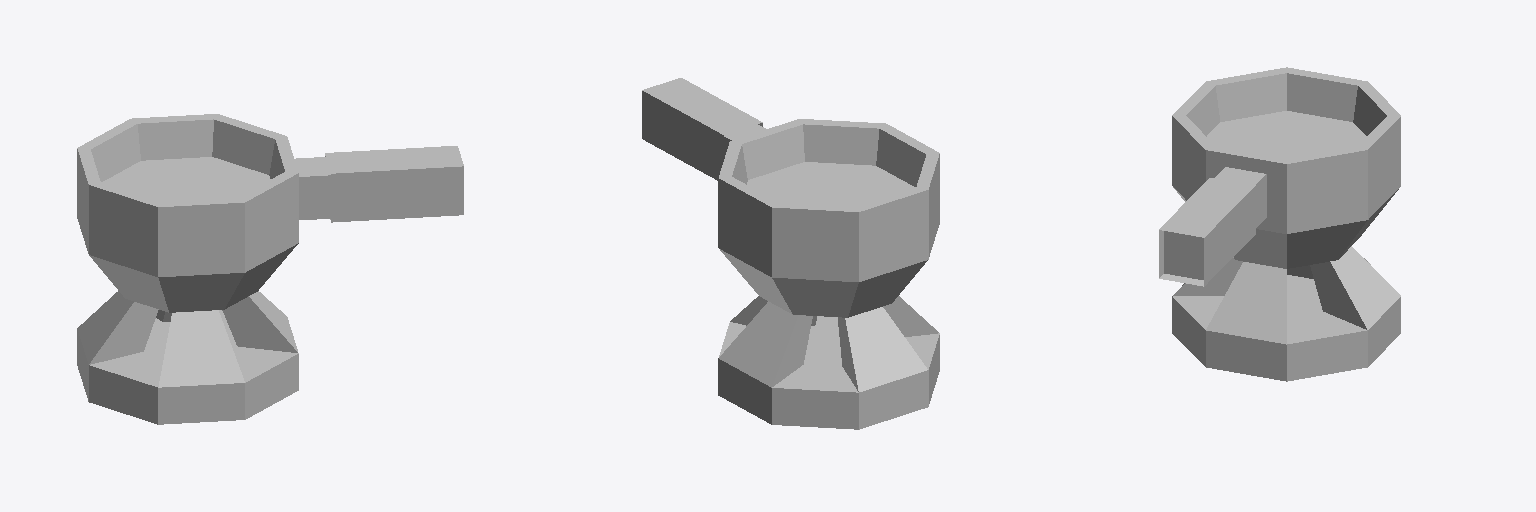
The model's file is Chocolate Fondue.obj.
3 views of the same model, side by side, from view 1: azimuth 30°, elevation 25°; view 2: azimuth 150°, elevation 25°; view 3: azimuth 270°, elevation 25° (orthographic).
Visible parts, largest first — view 1: Chocolate_Fondue; view 2: Chocolate_Fondue; view 3: Chocolate_Fondue.
Boxes of the visible parts, box(x1,y1,x2,y2) form: Chocolate_Fondue: box(77, 114, 463, 424); Chocolate_Fondue: box(642, 78, 939, 429); Chocolate_Fondue: box(1159, 67, 1400, 381).
Bounding box in the file's own units: 3.3 × 2.09 × 2.12.